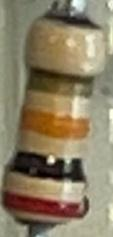Black: (4, 153, 89, 186)
Orange: (18, 108, 92, 142)
Red: (3, 189, 88, 218)
Side-Gold: (27, 66, 96, 96)
